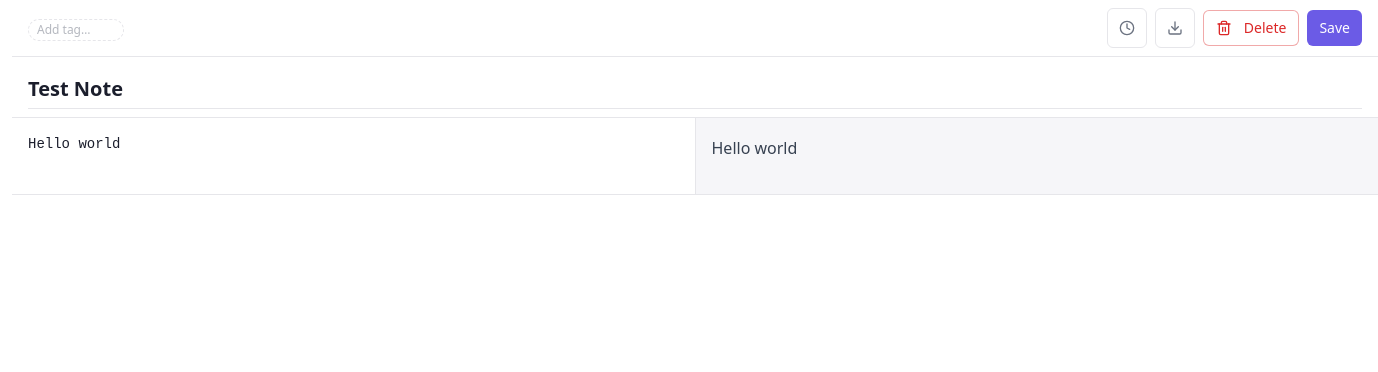
Test: VersionHistoryPanel — opening the panel › History button opens the version history panel
Expected: the field showing "Test Note" is shown, [28,69,1362,109]
Click the button named "version history" at (1127, 28), box [1107,8,1147,48]
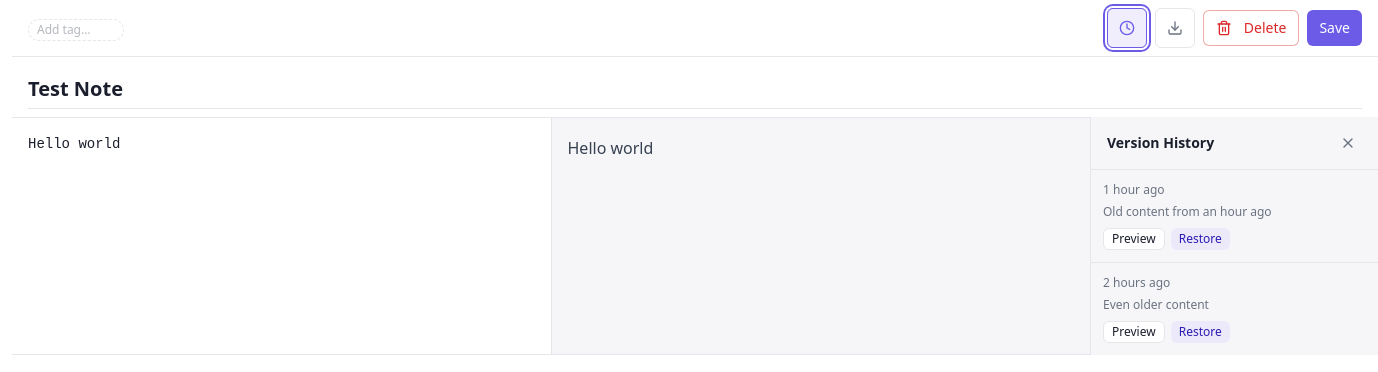
Expected: the heading "Version History" is shown, [1107,133,1214,153]
